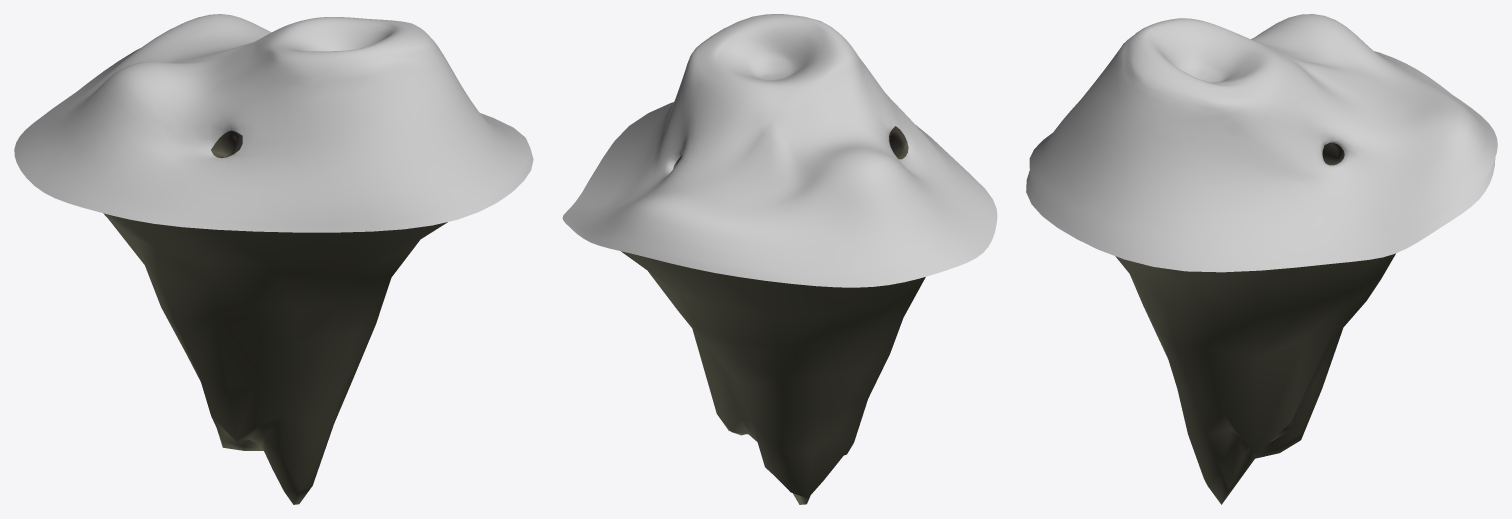
The model's file is island.fbx.
3 renders of one model, left to right at view 1: azimuth 30°, elevation 25°; view 2: azimuth 150°, elevation 25°; view 3: azimuth 270°, elevation 25°, orthographic. The views are drawn at different scales.
Parts seen in each view (by area): view 1: island_top, island_bottom; view 2: island_top, island_bottom; view 3: island_top, island_bottom.
Boxes of the visible parts, x1,y1,x2,y2 form: island_top: (14, 14, 533, 232); island_bottom: (103, 213, 447, 504); island_top: (562, 14, 997, 287); island_bottom: (621, 251, 925, 504); island_top: (1026, 14, 1497, 272); island_bottom: (1115, 253, 1395, 504).
Size of the model in its own units: 27.85 by 29.75 by 26.45.
